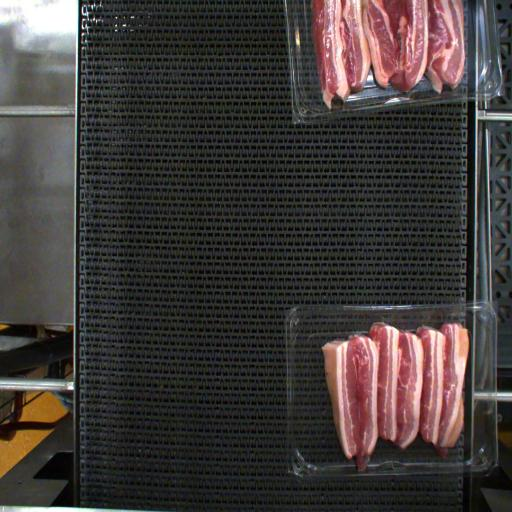twisted-meat: (439, 330, 468, 450)
